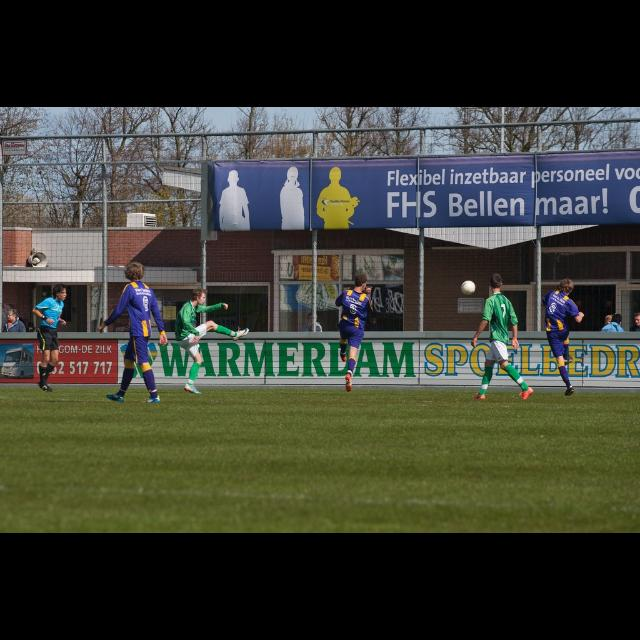Football: (460, 279, 476, 297)
